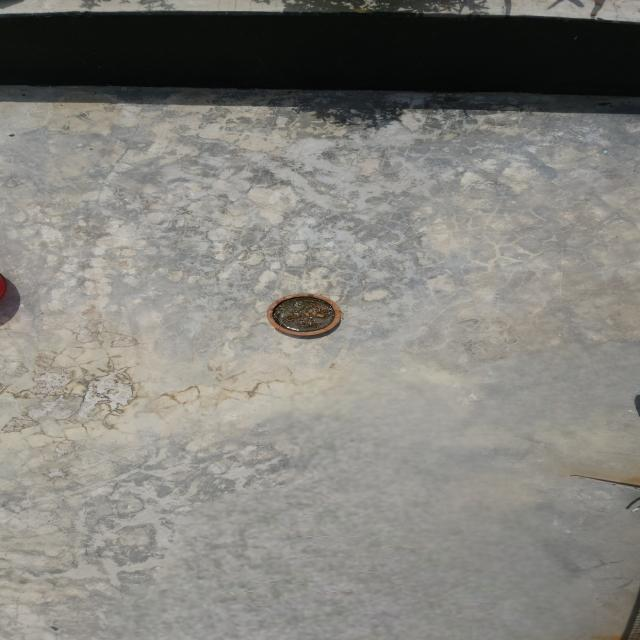Breeding Place: (252, 287, 368, 348)
